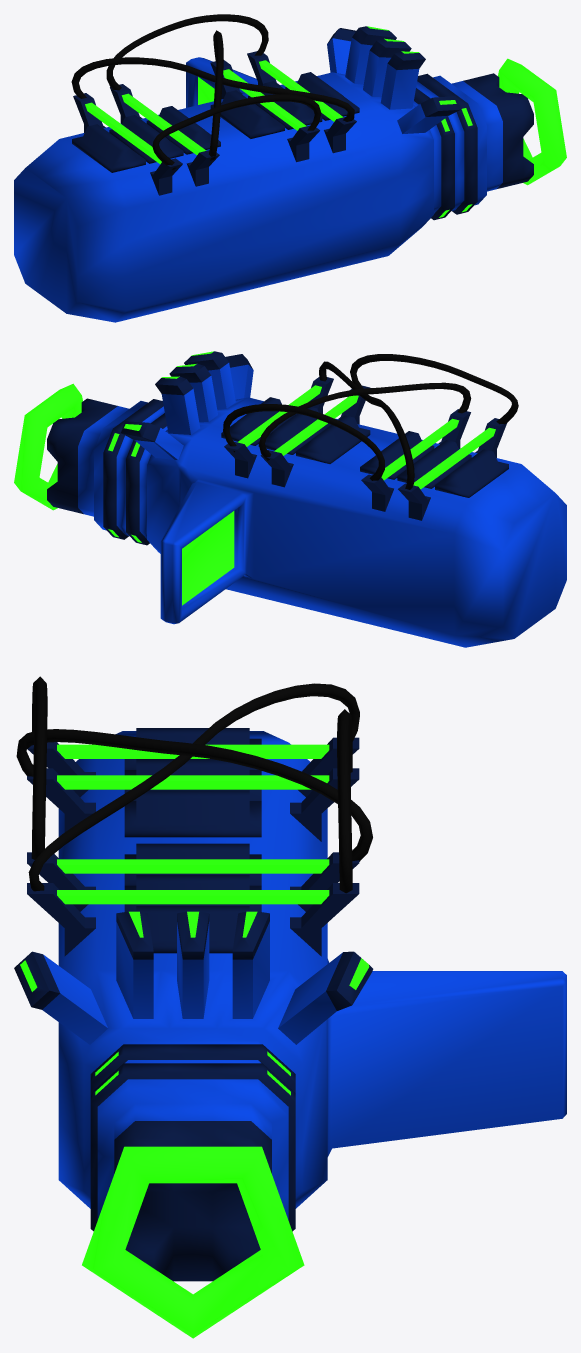
The model's file is drillTier4.fbx.
3 views of the same model, one above another, from view 1: azimuth 30°, elevation 25°; view 2: azimuth 150°, elevation 25°; view 3: azimuth 270°, elevation 25° (orthographic). The views are drawn at different scales.
Visible parts, largest first — view 1: drillT4Body, drillT4; view 2: drillT4Body, drillT4; view 3: drillT4Body, drillT4.
Boxes of the visible parts, x1,y1,x2,y2 form: drillT4Body: [14, 14, 533, 322]; drillT4: [498, 58, 566, 185]; drillT4Body: [47, 351, 566, 647]; drillT4: [14, 383, 82, 510]; drillT4Body: [14, 676, 566, 1281]; drillT4: [82, 1146, 304, 1338].
Size of the model in its own units: 89.16 by 37.28 by 50.6.
